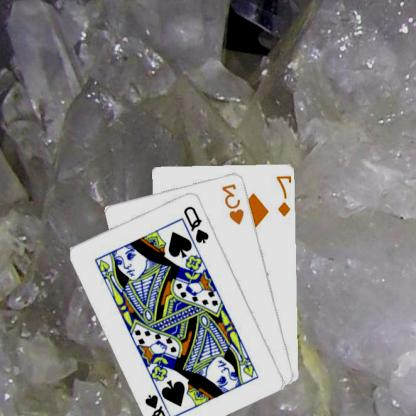3H: (220, 180, 248, 226)
7D: (275, 172, 294, 218)
QS: (183, 203, 212, 244), (144, 391, 173, 416)
